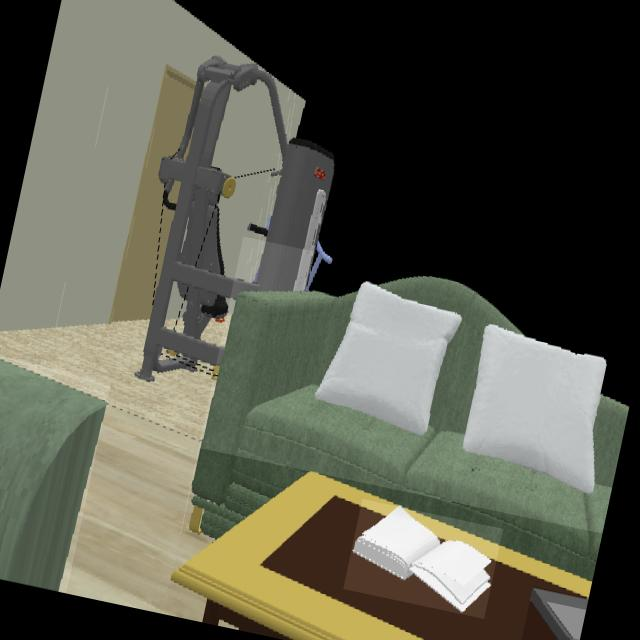book: (350, 506, 491, 614)
laptop: (529, 587, 588, 640)
pillow: (462, 324, 606, 494), (312, 283, 462, 436)
sofa: (189, 277, 629, 582), (0, 360, 106, 590)
table: (171, 472, 591, 640)
